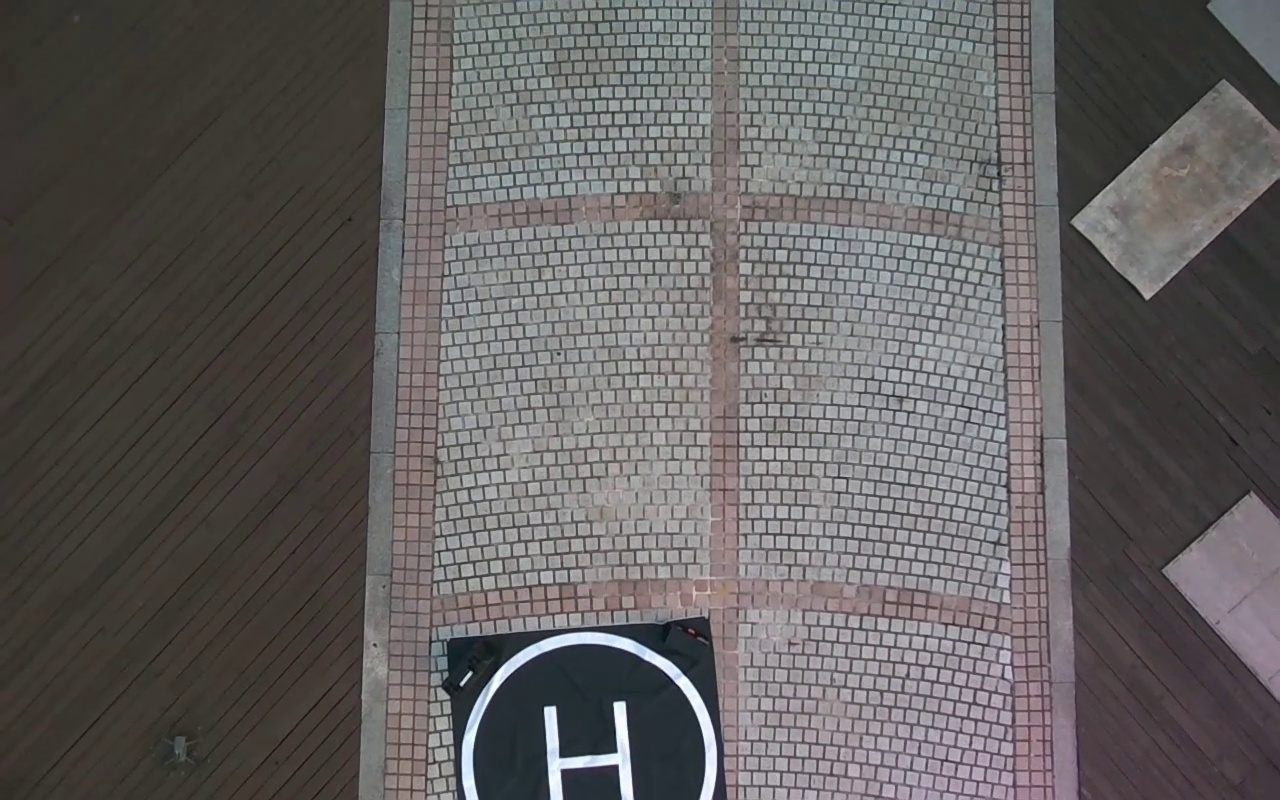H: (542, 700, 634, 800)
